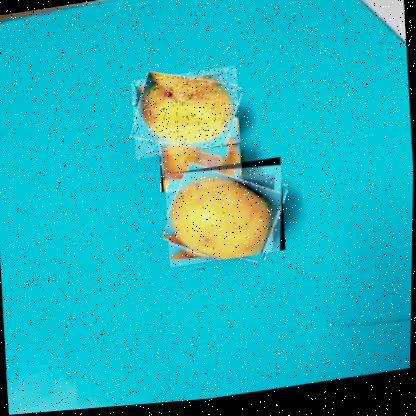orange_rotten: (163, 160, 287, 271), (130, 68, 242, 162), (157, 121, 243, 196)
